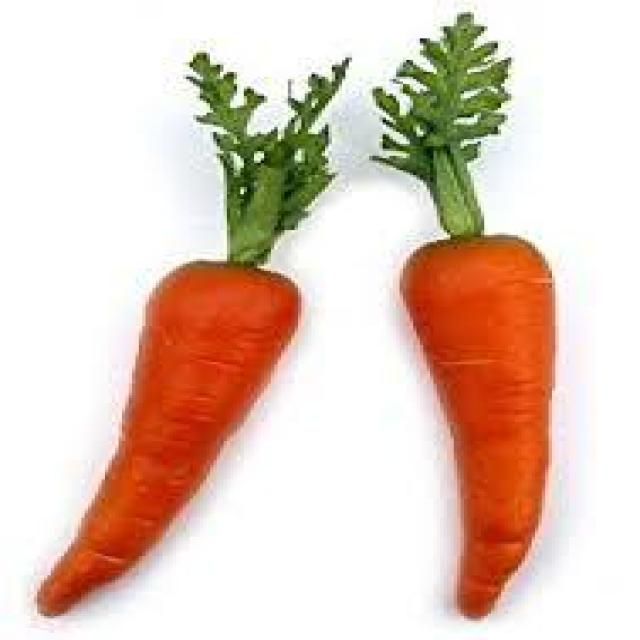organic: (37, 53, 352, 618), (369, 14, 555, 621)
